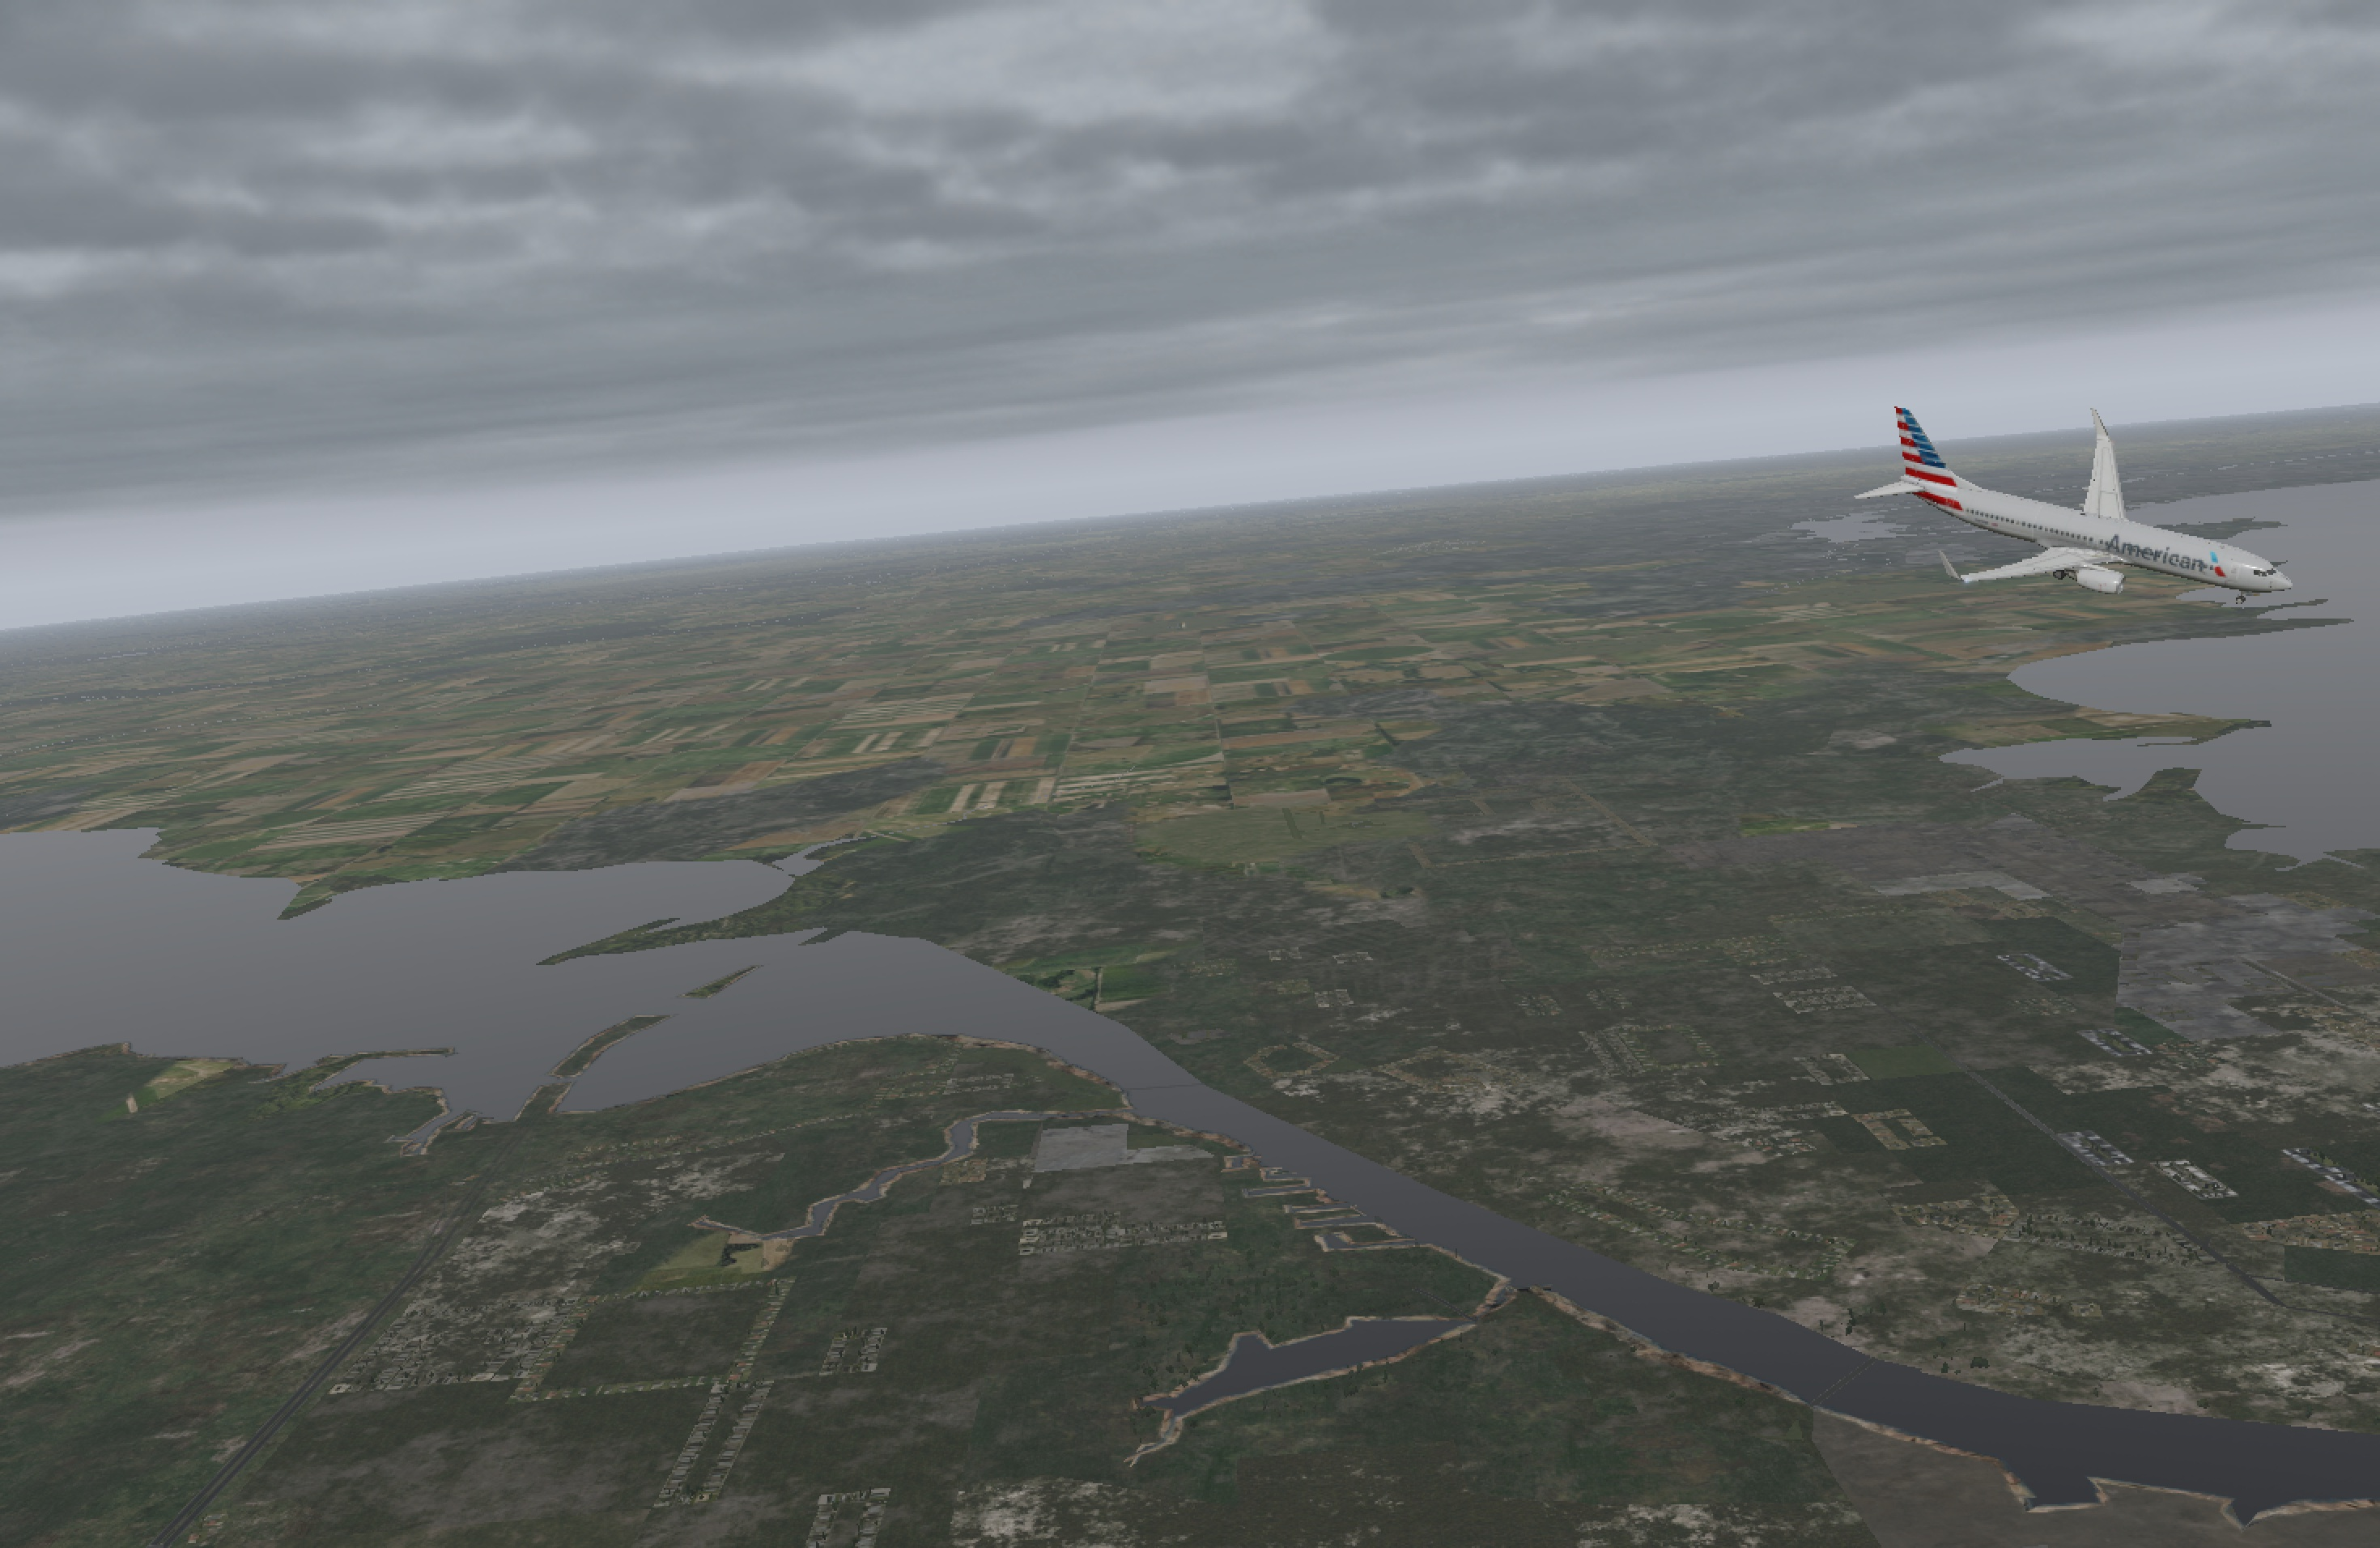aircraft: (1906, 472, 2276, 611)
